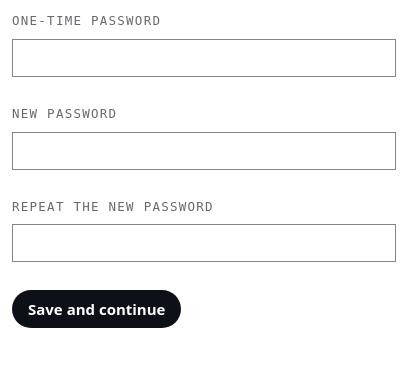
ChangePasswordForm, a refused change › falls back to a general message for a code the dictionary does not know
Click the button "Save and continue" at (97, 309), box top-left (12, 290), bottom-right (182, 328)
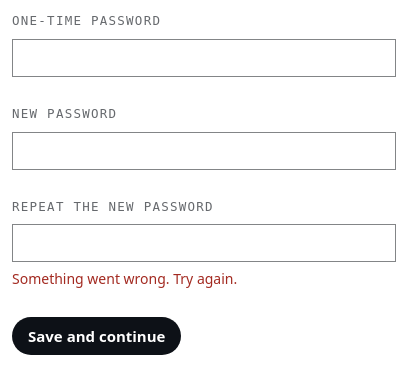
Expected: the message reads "Something went wrong. Try again.", top-left (12, 269), bottom-right (237, 288)
